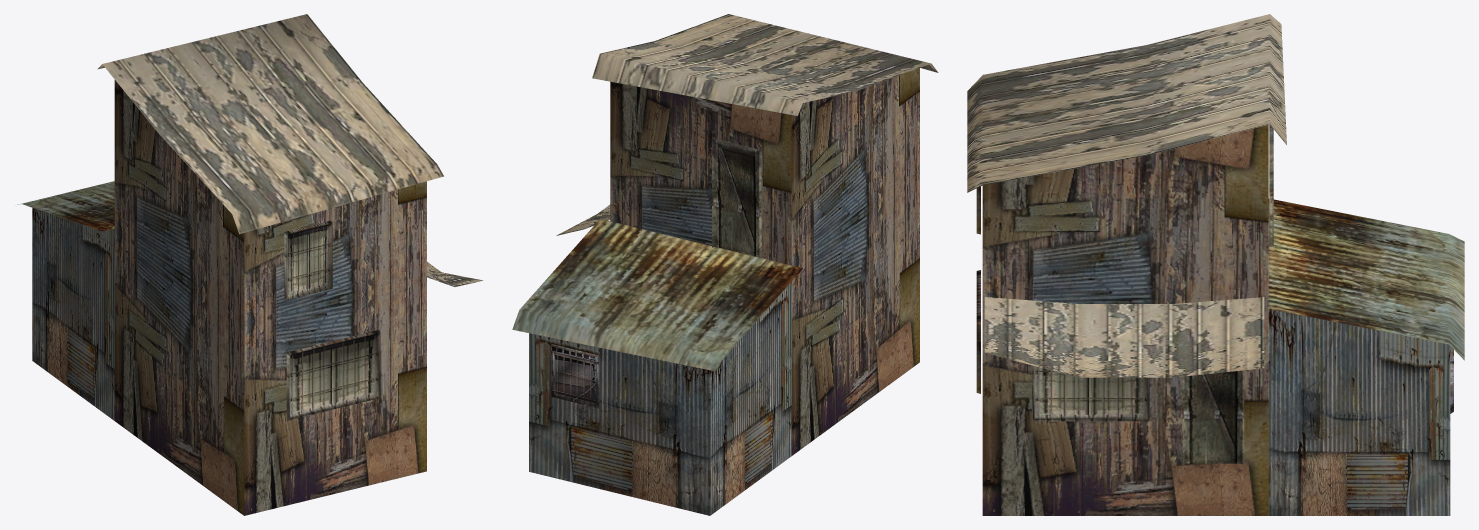
The model's file is MogSlm02.glb.
3 views of the same model, side by side, from view 1: azimuth 30°, elevation 25°; view 2: azimuth 150°, elevation 25°; view 3: azimuth 270°, elevation 25° (orthographic). The views are drawn at different scales.
Parts seen in each view (by area): view 1: _MogSlm02; view 2: _MogSlm02; view 3: _MogSlm02.
Boxes of the visible parts, left/top/right/bottom form: _MogSlm02: left=17, top=14, right=483, bottom=515; _MogSlm02: left=512, top=14, right=938, bottom=515; _MogSlm02: left=967, top=14, right=1464, bottom=515.
Bounding box in the file's own units: 5.49 × 7.47 × 8.48.
1 material, 1 textured.
